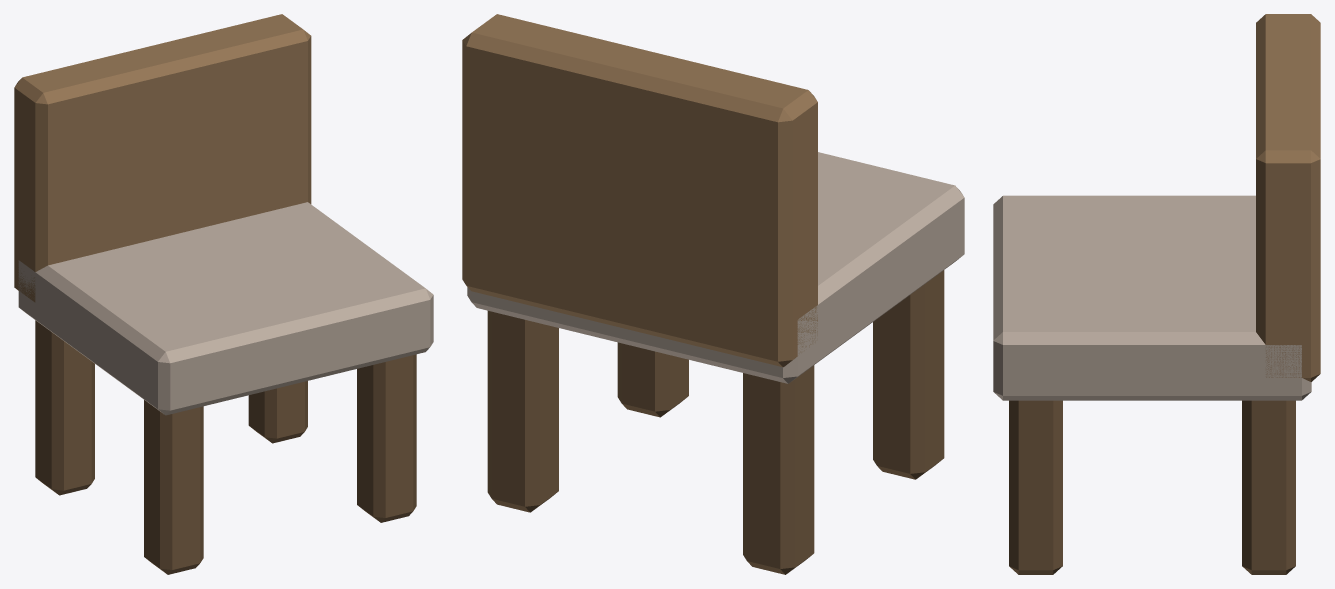
File: wooden_chair.lod1.glb
3 views of the same model, side by side, from view 1: azimuth 30°, elevation 25°; view 2: azimuth 150°, elevation 25°; view 3: azimuth 270°, elevation 25° (orthographic). The views are drawn at different scales.
Bounding box in the file's own units: 0.6336 × 0.8788 × 0.6072.
